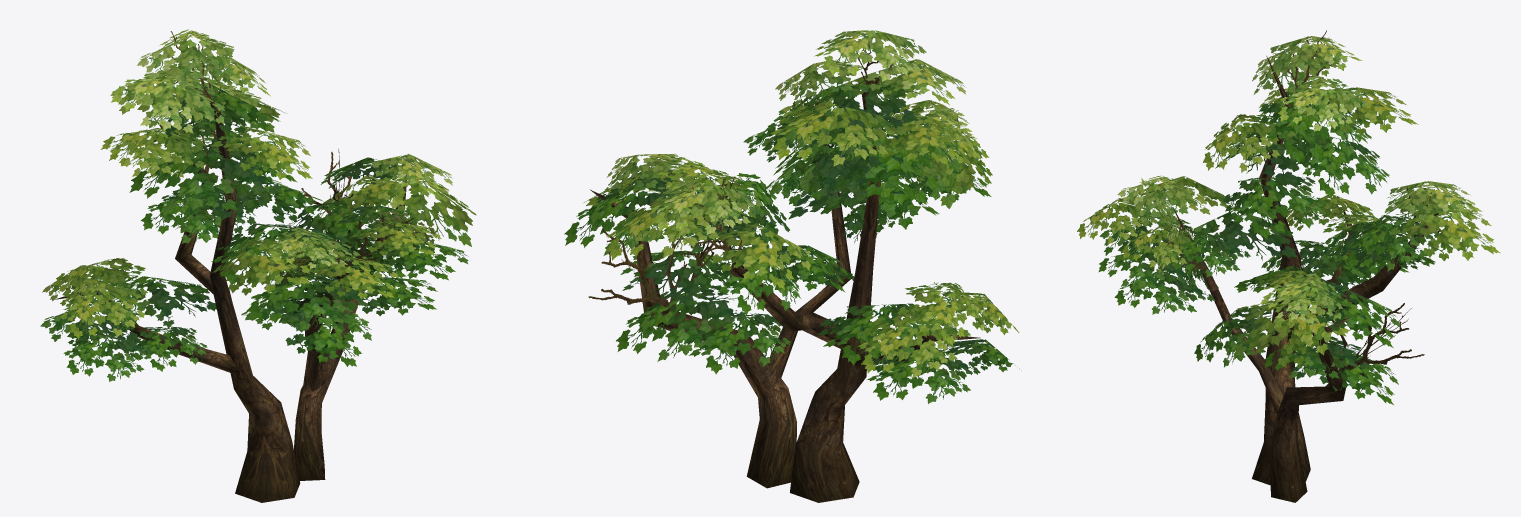
Rendered from fb_zijiancheng_gaojishu01.FBX.
3 views of the same model, side by side, from view 1: azimuth 30°, elevation 25°; view 2: azimuth 150°, elevation 25°; view 3: azimuth 270°, elevation 25° (orthographic). The views are drawn at different scales.
Parts seen in each view (by area): view 1: fb_zijiancheng_gaojishu01; view 2: fb_zijiancheng_gaojishu01; view 3: fb_zijiancheng_gaojishu01.
Part boxes in pixels (box(x1,y1,x2,y2)): fb_zijiancheng_gaojishu01: box(40, 29, 476, 502); fb_zijiancheng_gaojishu01: box(564, 30, 1021, 502); fb_zijiancheng_gaojishu01: box(1077, 30, 1500, 502).
Size of the model in its own units: 633 by 663 by 625.
